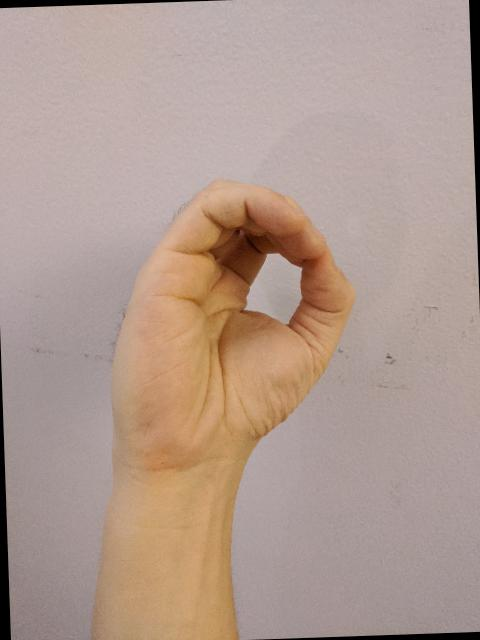O: (98, 168, 364, 476)
